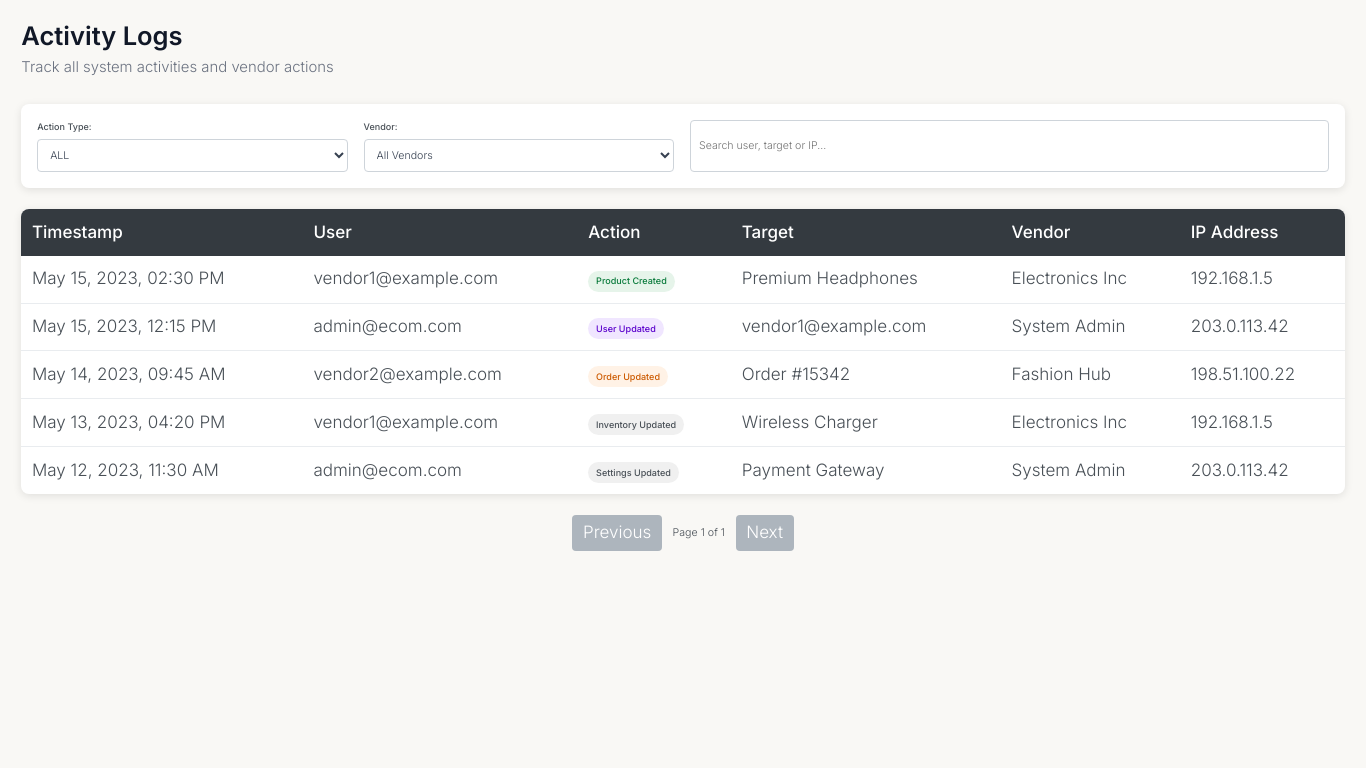
Test: UsersActivityPage › filters by search term
In the field with placeholder "Search user, target or IP...": (1009, 146) top-left (690, 120), bottom-right (1329, 172), type "192.168.1.5"
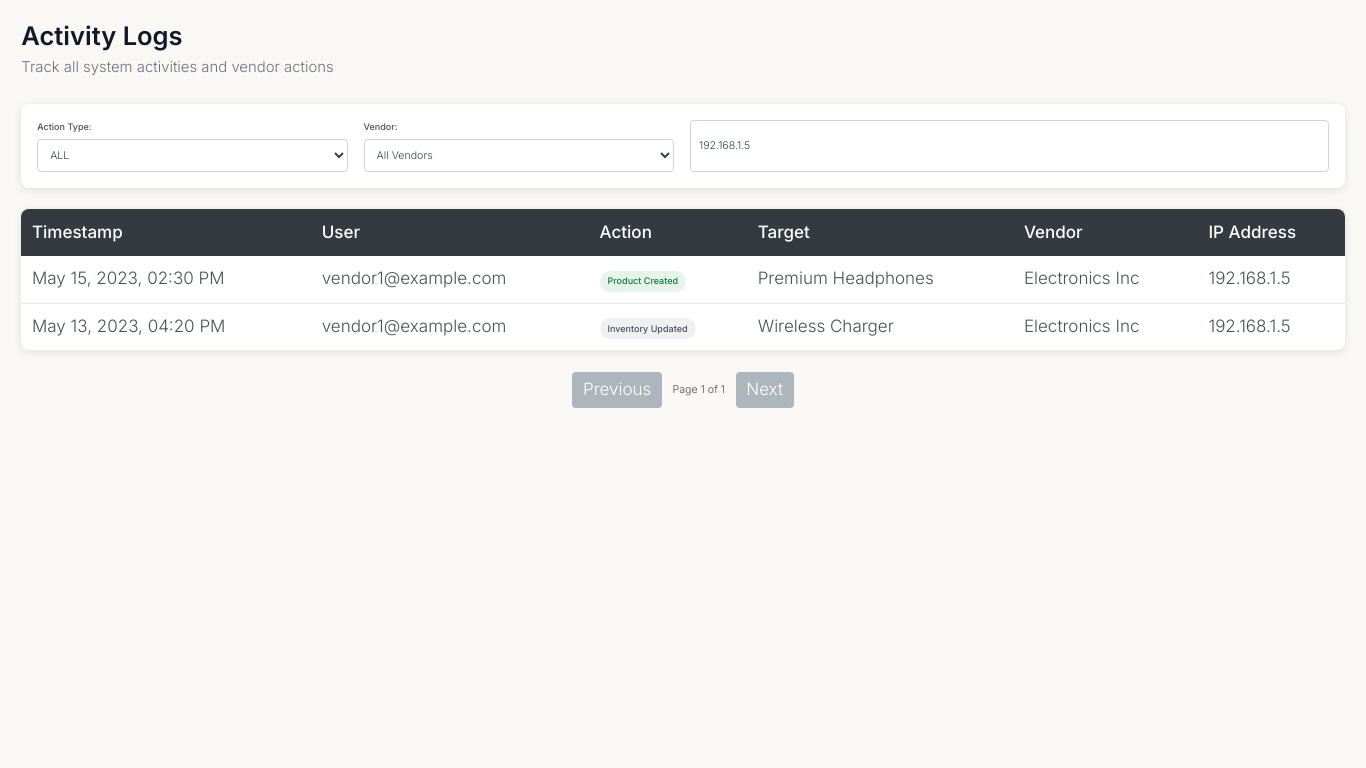
Expected: the text "192.168.1.5" in the row of "May 15, 2023, 02:30 PM" is shown, top-left (1208, 268), bottom-right (1290, 288)
Now the text "203.0.113.42" is gone
